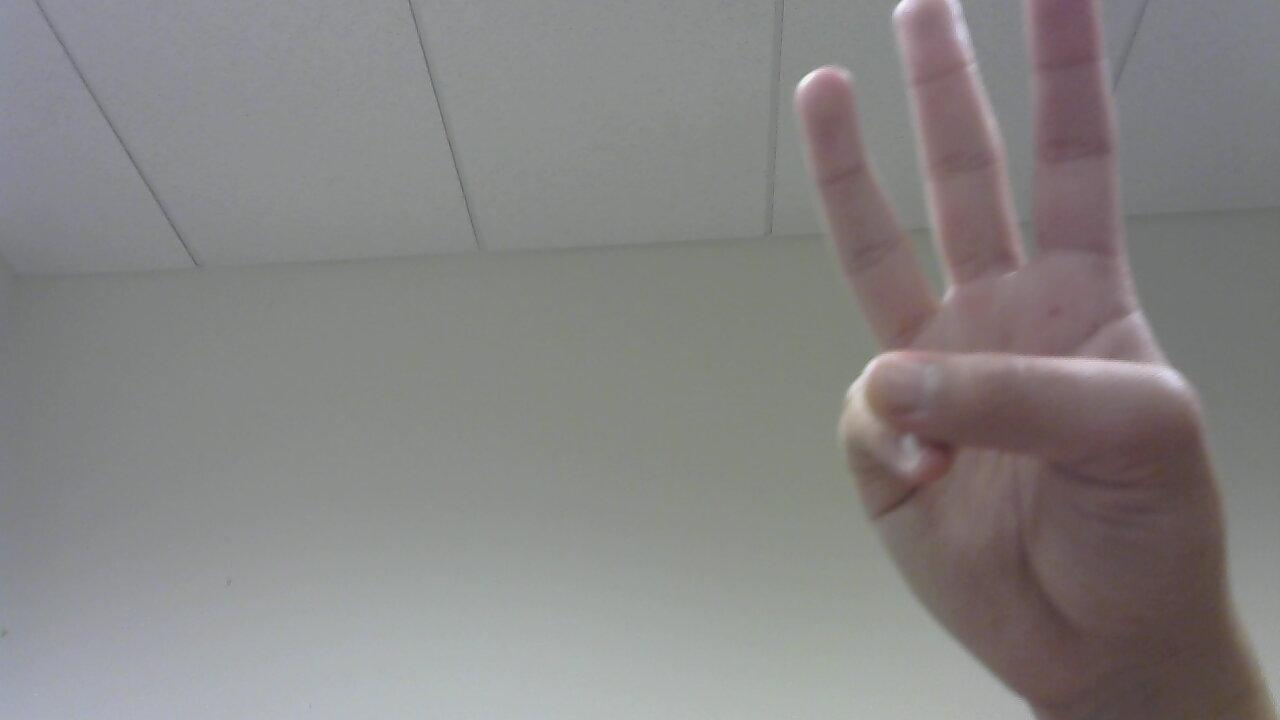hands: (766, 1, 1243, 707)
